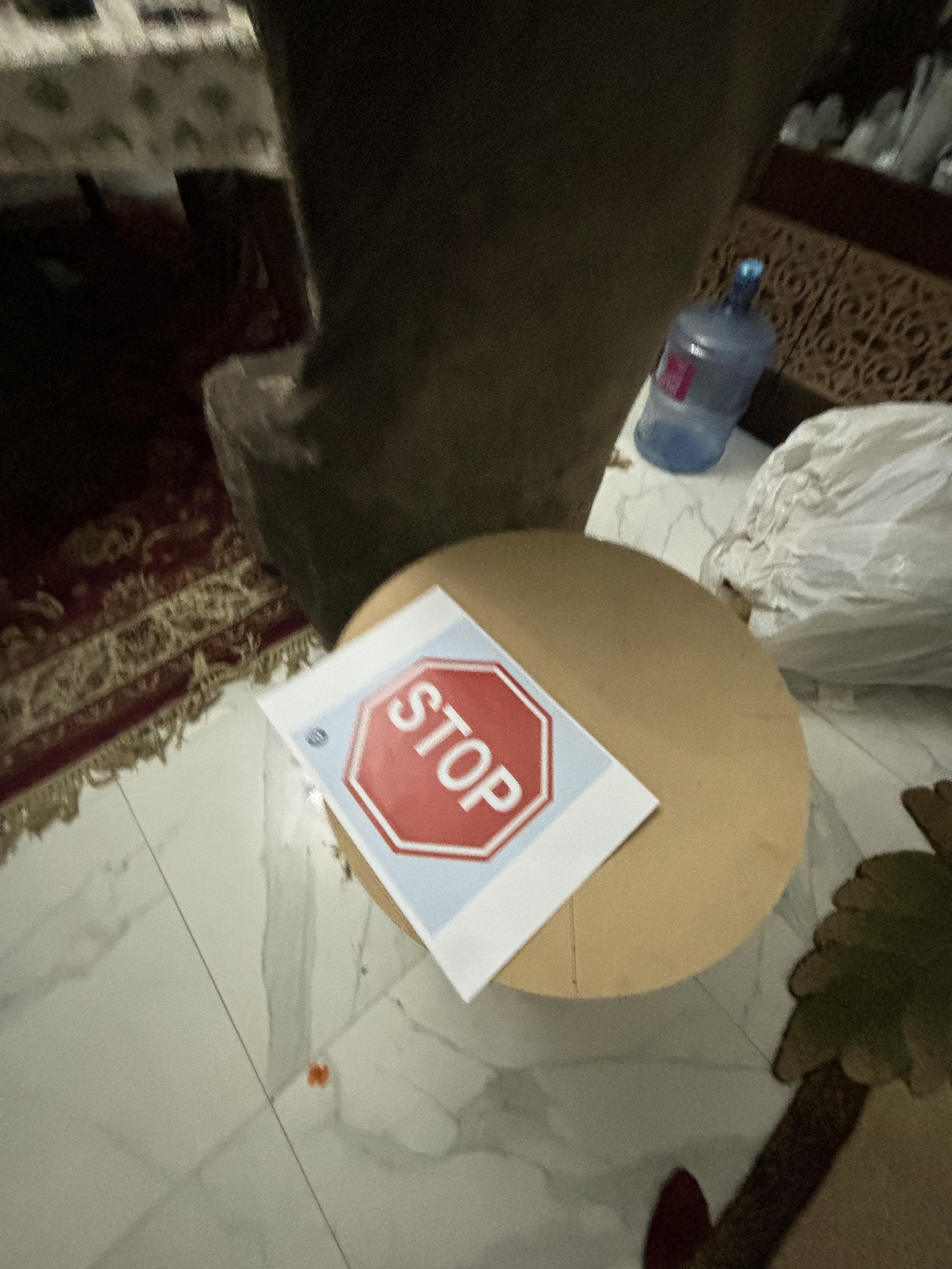Stop: (339, 658, 561, 870)
